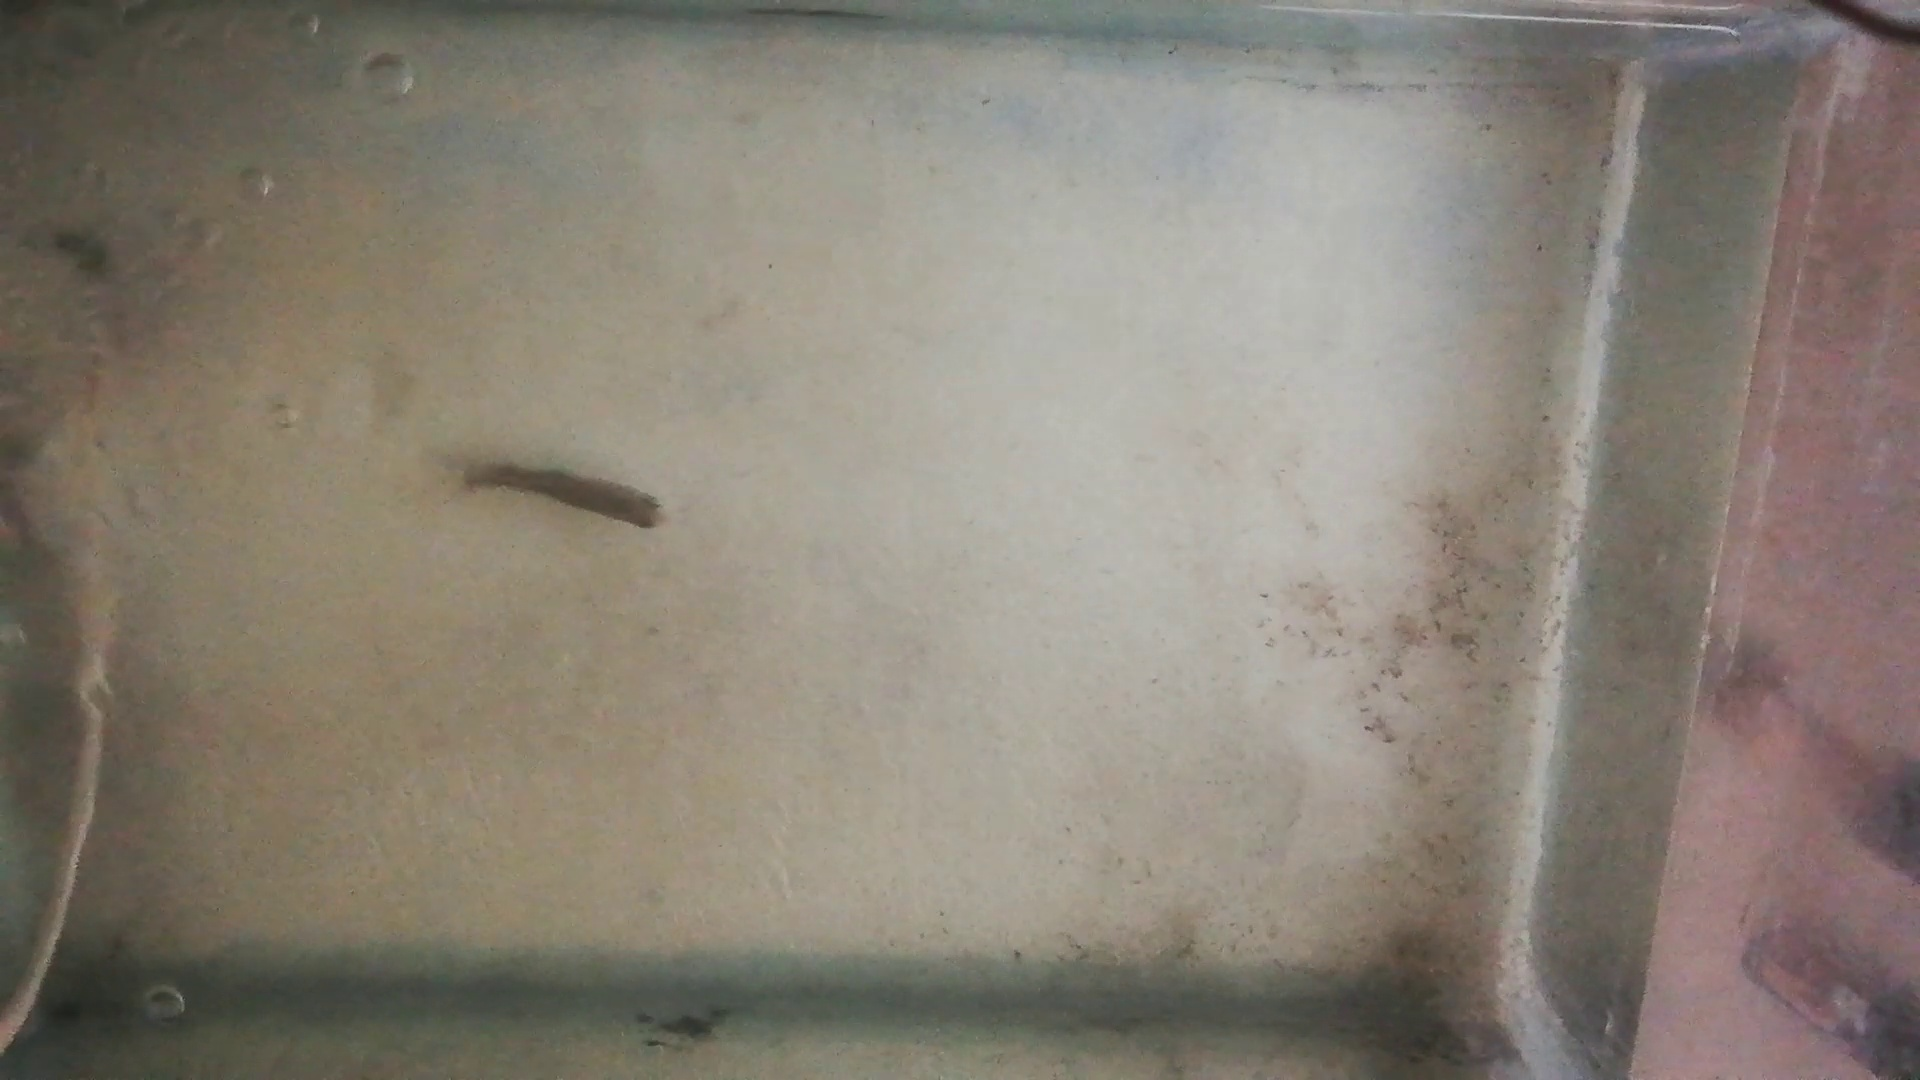fish: (464, 463, 666, 530)
